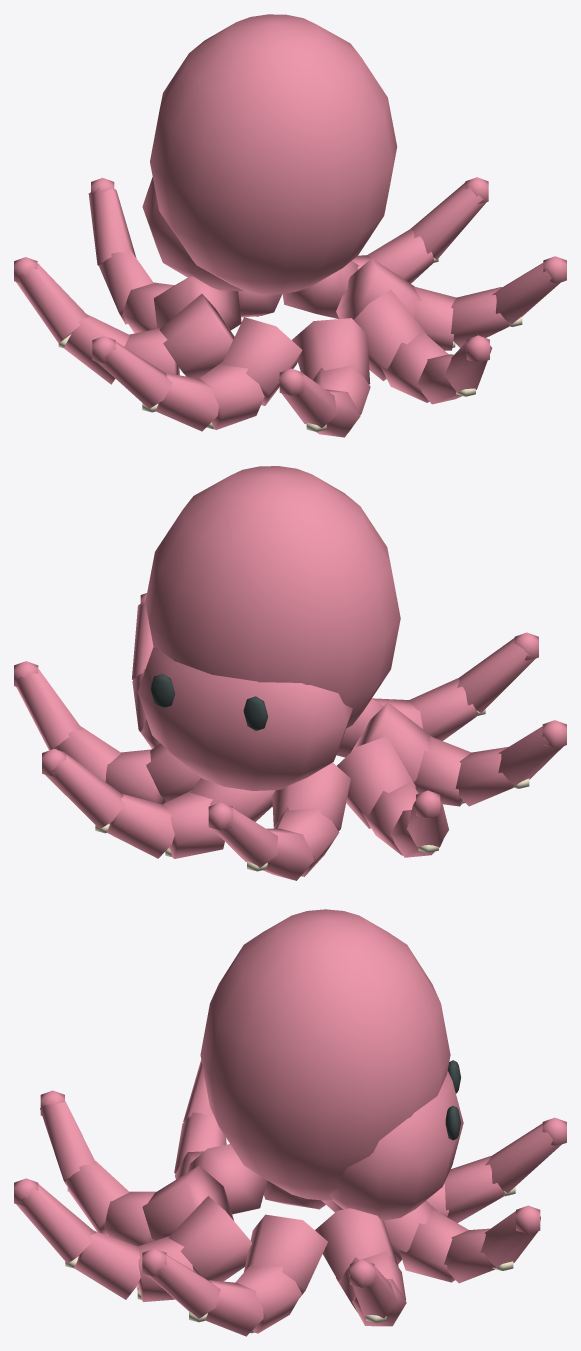
Rendered from fish_octopus.glb.
3 renders of one model, top to bottom at view 1: azimuth 30°, elevation 25°; view 2: azimuth 150°, elevation 25°; view 3: azimuth 270°, elevation 25°, orthographic. The views are drawn at different scales.
Size of the model in its own units: 0.48 by 0.3261 by 0.4767.
